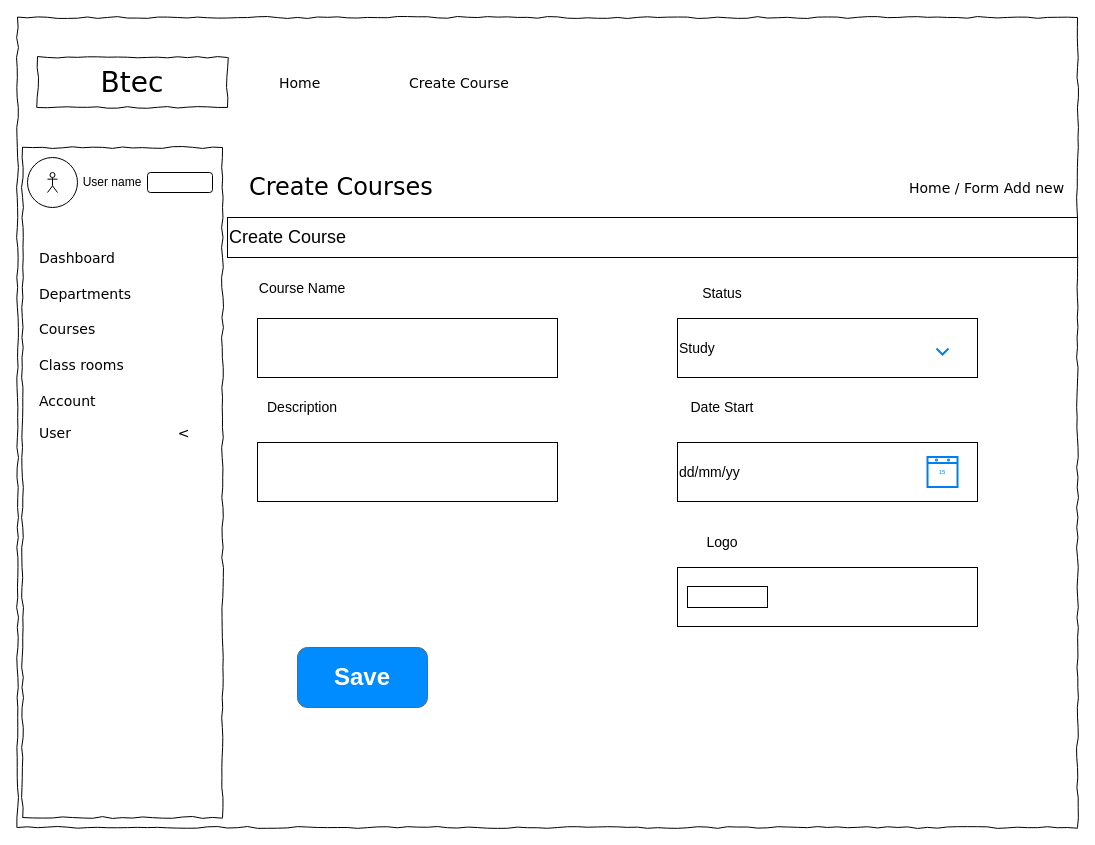
This 1095x845 diagram has some shape labels left out. Each missing label, with the centre of its shape:
"Chọn tệp" goes at point (727, 597).
"Logout" goes at point (179, 182).
